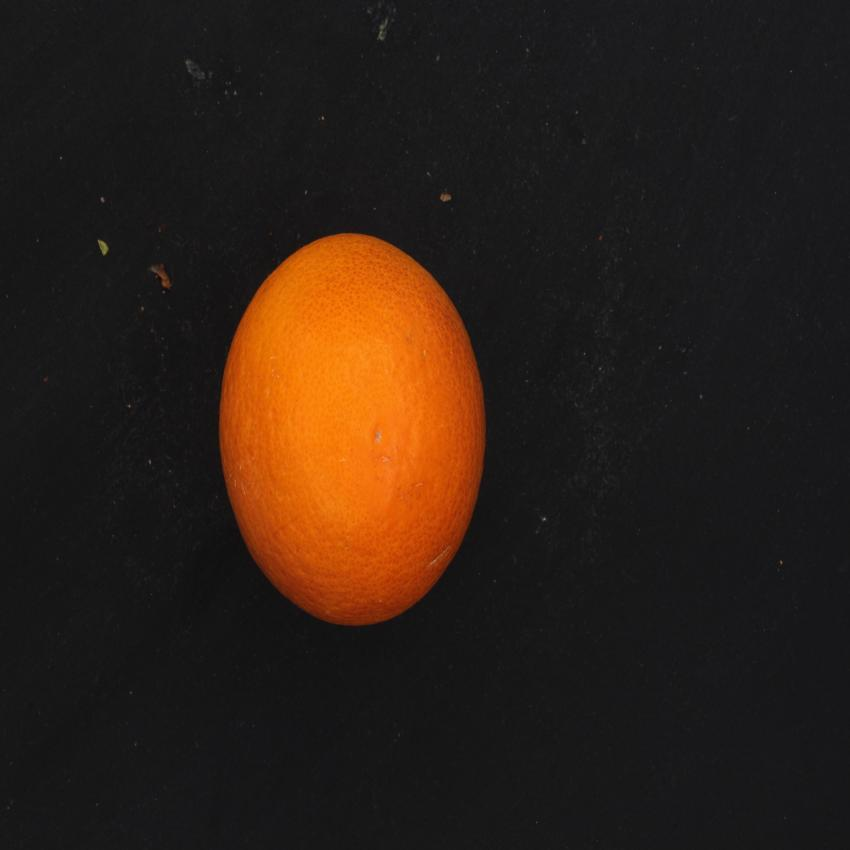Buen estado: (210, 222, 502, 640)
